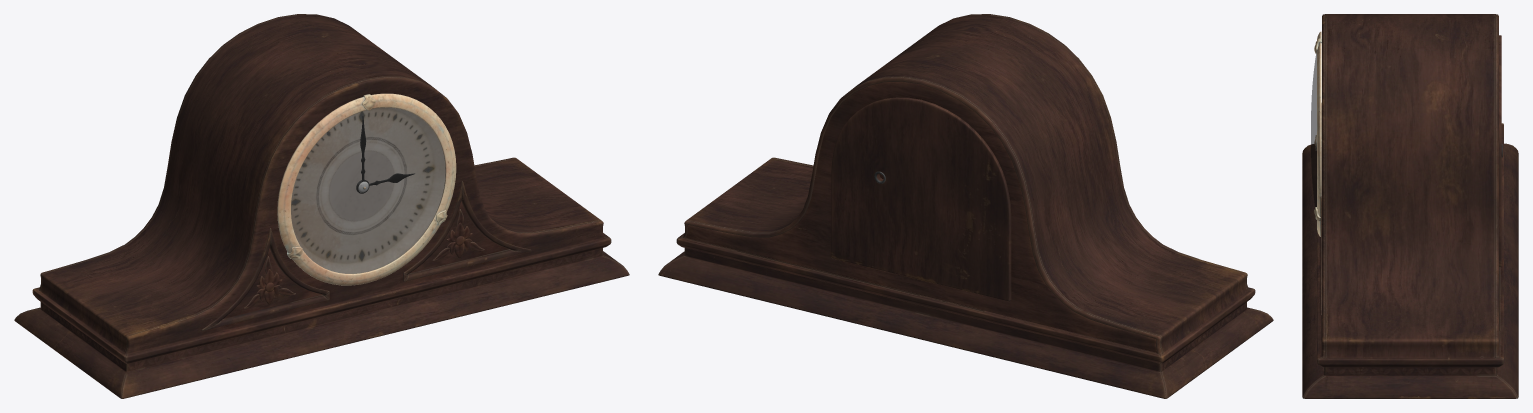
File: mantel_clock_01_1k.gltf
The picture shows the model from 3 angles, left to right: view 1: azimuth 30°, elevation 25°; view 2: azimuth 150°, elevation 25°; view 3: azimuth 270°, elevation 25°; orthographic projection.
Visible parts, largest first — view 1: mantel_clock_01, mantel_clock_01_glass; view 2: mantel_clock_01; view 3: mantel_clock_01, mantel_clock_01_glass.
Boxes of the visible parts, bbox=[...] form: mantel_clock_01: bbox=[14, 14, 629, 398]; mantel_clock_01_glass: bbox=[291, 107, 445, 273]; mantel_clock_01: bbox=[658, 14, 1273, 398]; mantel_clock_01: bbox=[1302, 14, 1518, 398]; mantel_clock_01_glass: bbox=[1311, 53, 1316, 207].
Bounding box in the file's own units: 0.3423 × 0.1605 × 0.1262.
2 materials, 2 textured.
